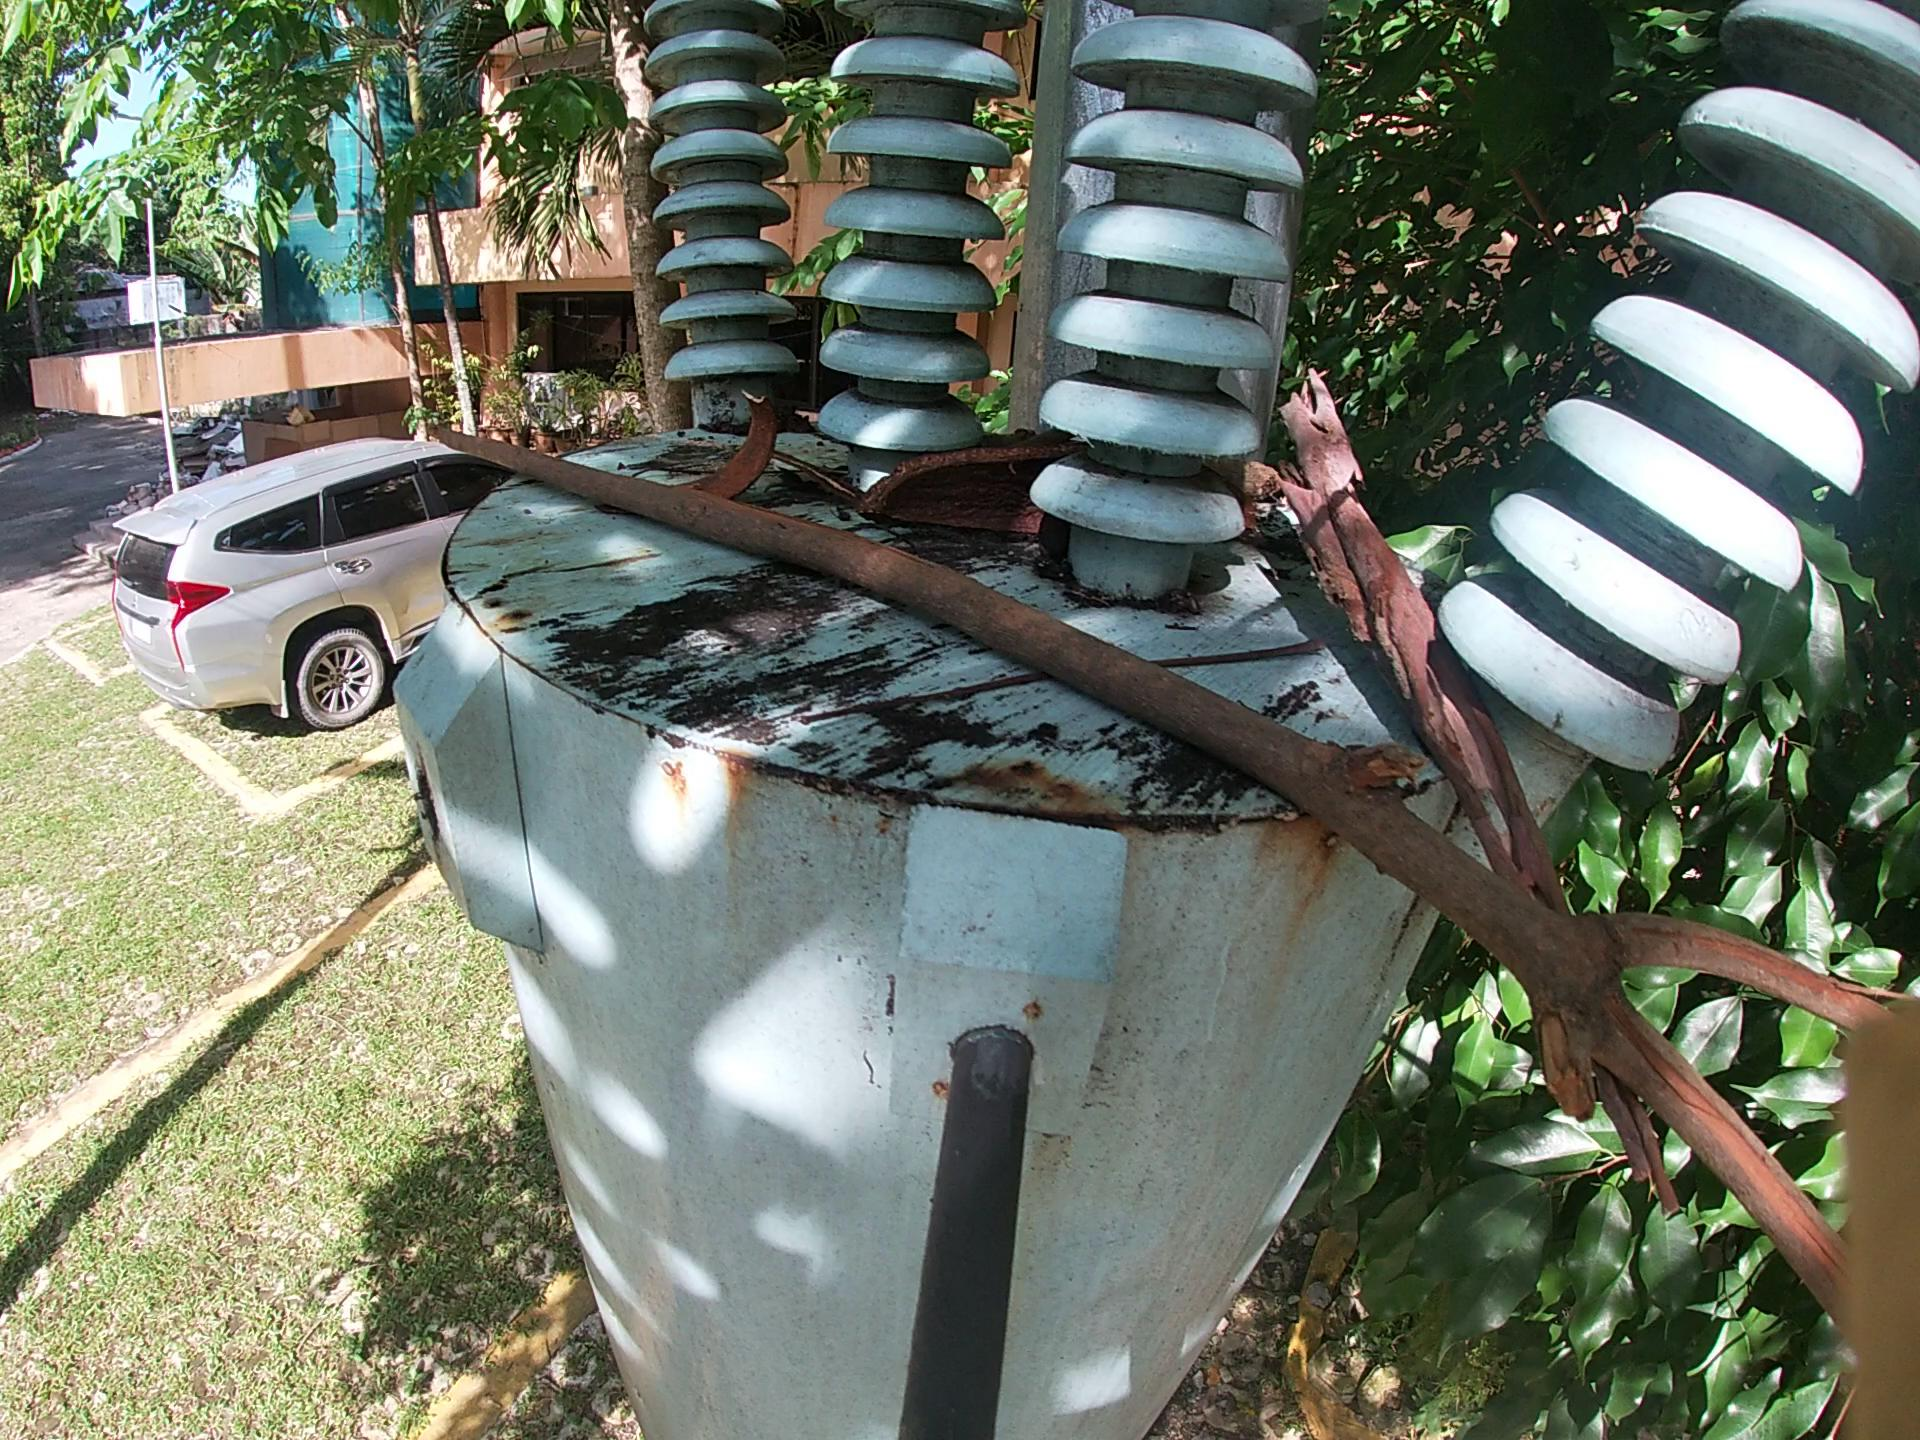mahogany fruit: (856, 448, 1082, 535), (685, 405, 803, 495)
tree branch: (426, 425, 1905, 1330), (1285, 365, 1698, 1224), (782, 638, 1336, 725), (779, 452, 859, 513), (630, 455, 738, 479), (1243, 455, 1284, 510)
